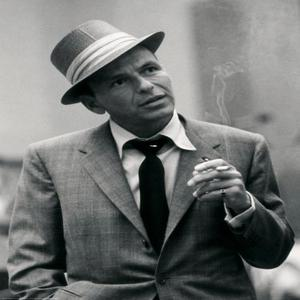cigarette: (210, 164, 234, 173)
